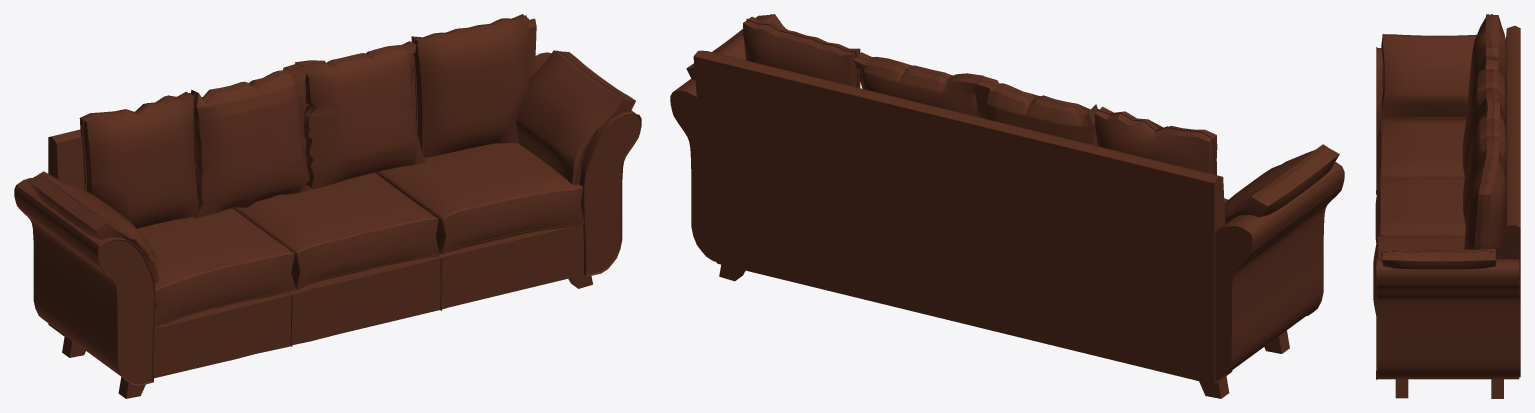
Rendered from sofa.fbx.
3 views of the same model, side by side, from view 1: azimuth 30°, elevation 25°; view 2: azimuth 150°, elevation 25°; view 3: azimuth 270°, elevation 25° (orthographic). The views are drawn at different scales.
Visible parts, largest first — view 1: sofa1; view 2: sofa1; view 3: sofa1.
Part boxes in pixels (x1=…): sofa1: x1=14, y1=14, x2=641, y2=398; sofa1: x1=670, y1=14, x2=1344, y2=398; sofa1: x1=1373, y1=14, x2=1520, y2=398.
Size of the model in its own units: 14.31 by 6.02 by 3.98.
